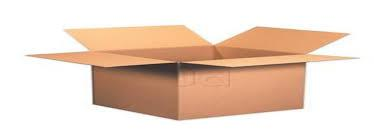Cardboard: (16, 9, 371, 126)
